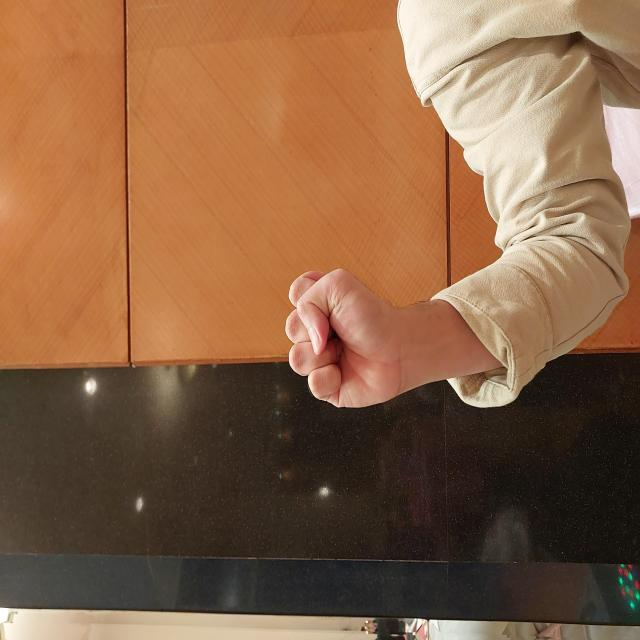S: (228, 283, 374, 404)
